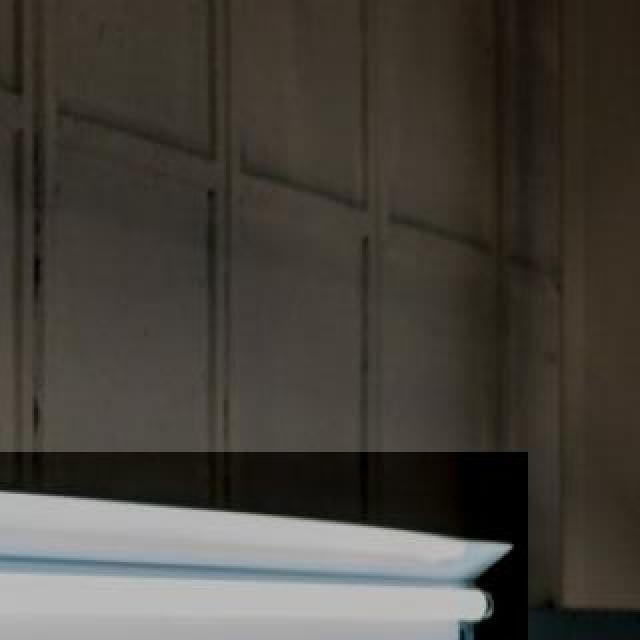fluorescent tube: (0, 554, 510, 624), (0, 638, 512, 640)
